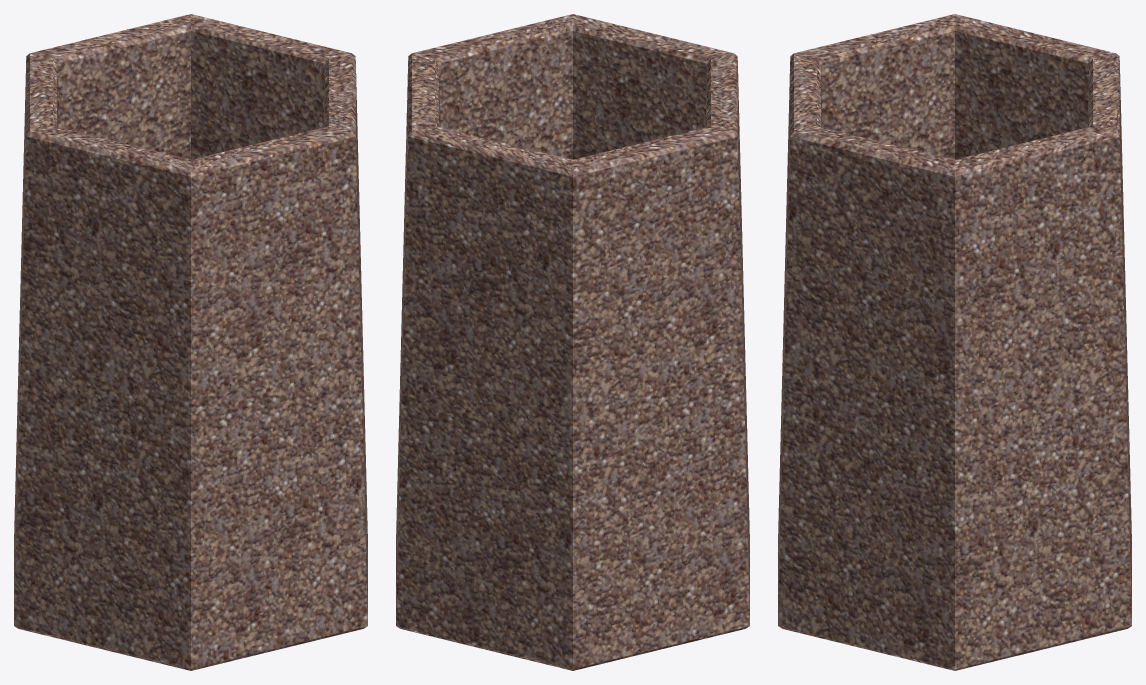
File: kosz.FBX
The picture shows the model from 3 angles, left to right: view 1: azimuth 30°, elevation 25°; view 2: azimuth 150°, elevation 25°; view 3: azimuth 270°, elevation 25°; orthographic projection.
Visible parts, largest first — view 1: kosz; view 2: kosz; view 3: kosz.
Part boxes in pixels (x1,y1,x2,y2): kosz: (14,14,367,670); kosz: (396,14,749,670); kosz: (778,14,1131,670).
Bounding box in the file's own units: 600 × 800 × 519.
